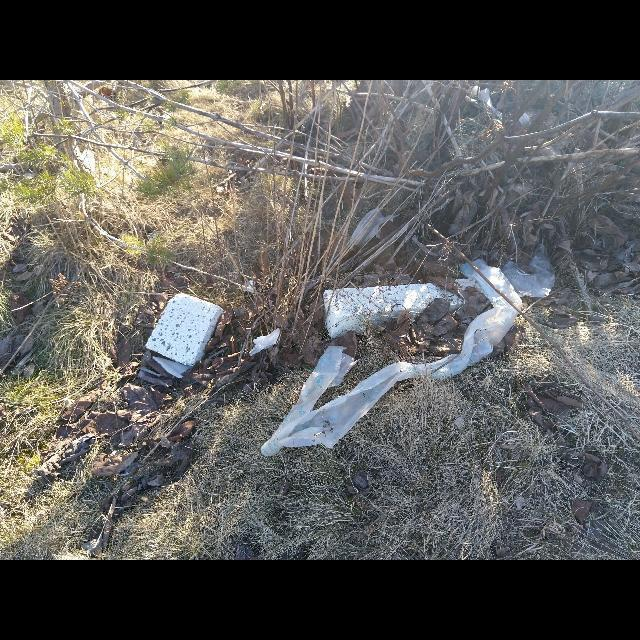Plastic: (262, 259, 522, 456), (323, 278, 483, 338), (146, 294, 224, 366), (502, 245, 556, 297)
